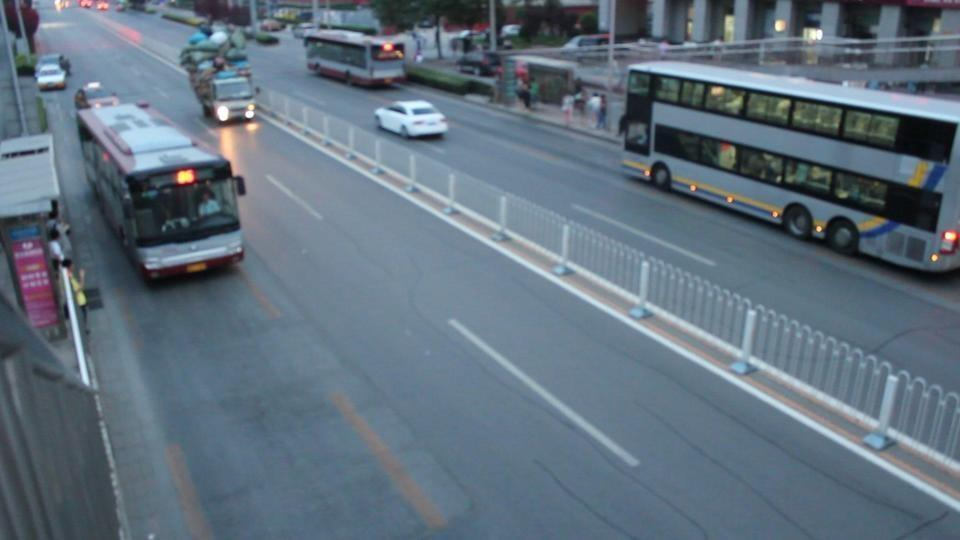car: (198, 70, 259, 124), (374, 99, 449, 140), (555, 34, 616, 61), (35, 55, 69, 93)
